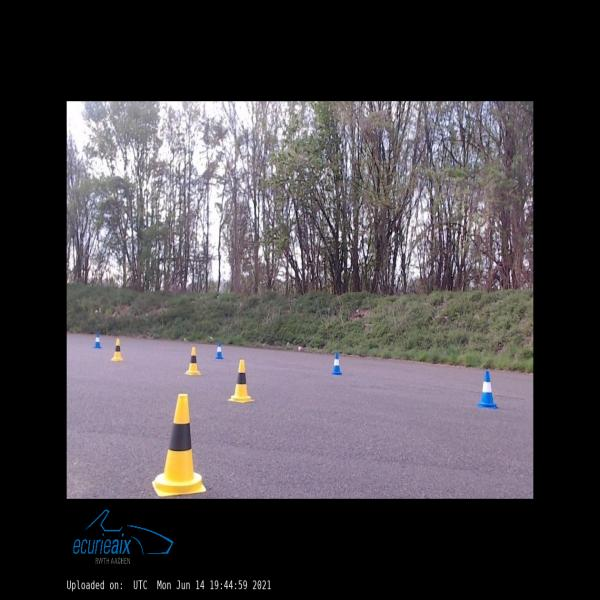blue_cone: (478, 371, 496, 408), (332, 353, 342, 374), (216, 342, 223, 358), (94, 333, 101, 348)
yellow_cone: (152, 394, 206, 497), (228, 360, 253, 403), (185, 347, 200, 374), (111, 339, 123, 361)
